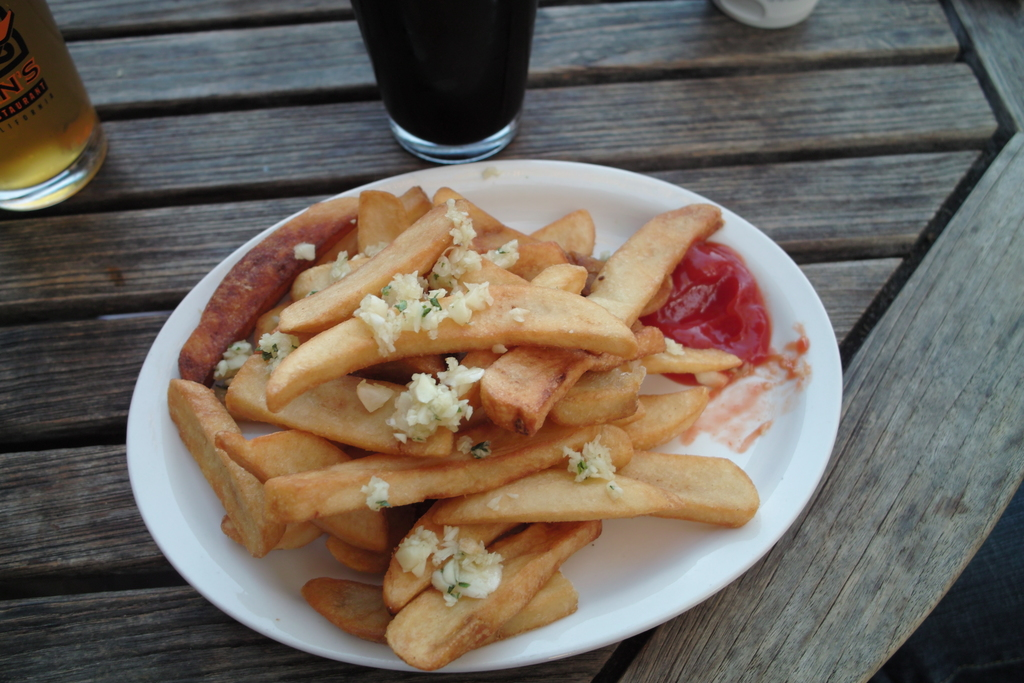French fries: (158, 174, 759, 679)
